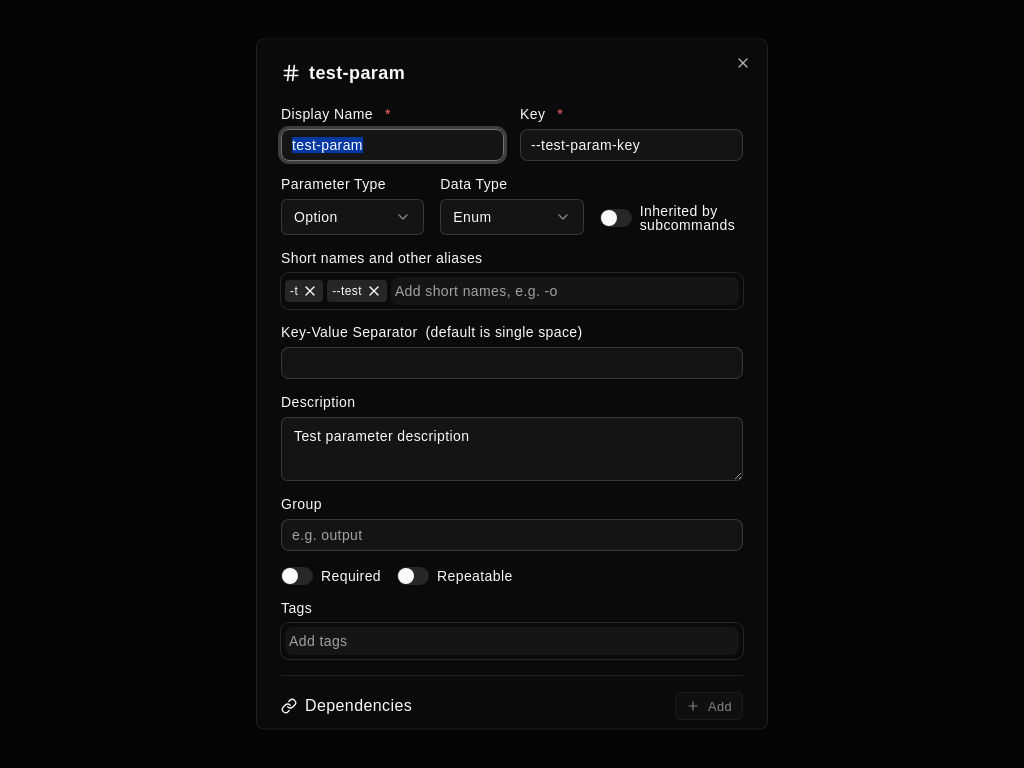
Test case: ParameterDetailsDialog - Enum Section › blocks save when any enum value has an empty value string
Replace the text in the text box showing "Test parameter description" with "Updated" at (512, 449), box [281,417,743,481]
(page scrolled)
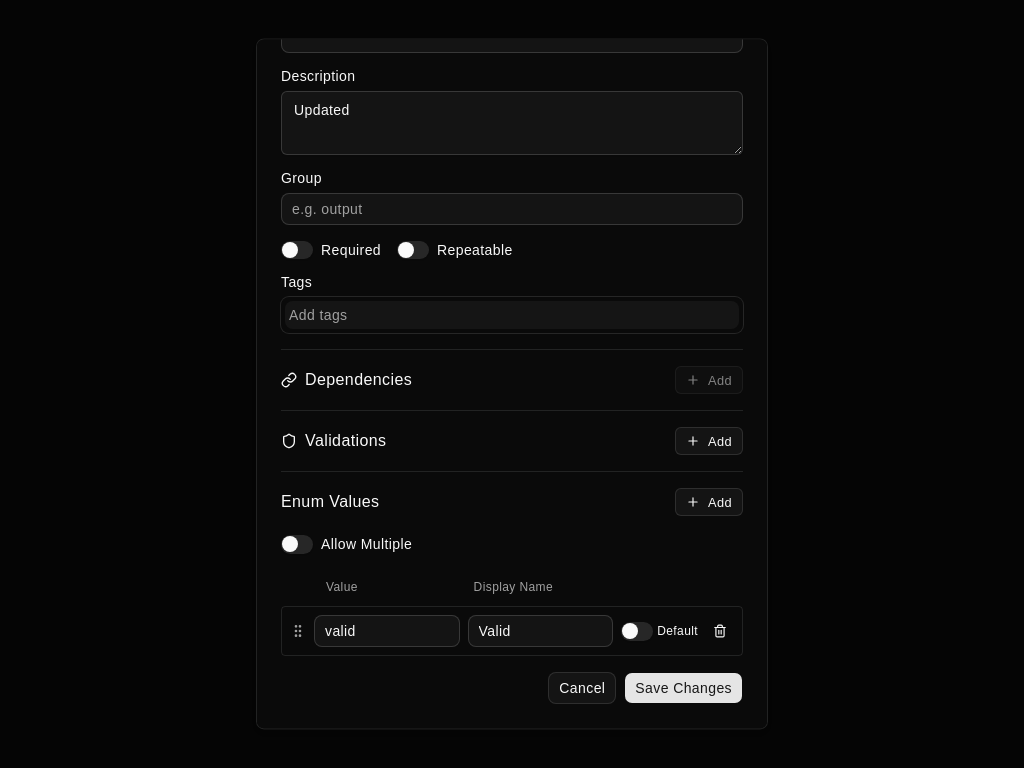
Expected: the button "Save Changes" is enabled, [624,673,743,705]
Clear the 1st field showing "valid" at (387, 632), box [314,616,460,648]
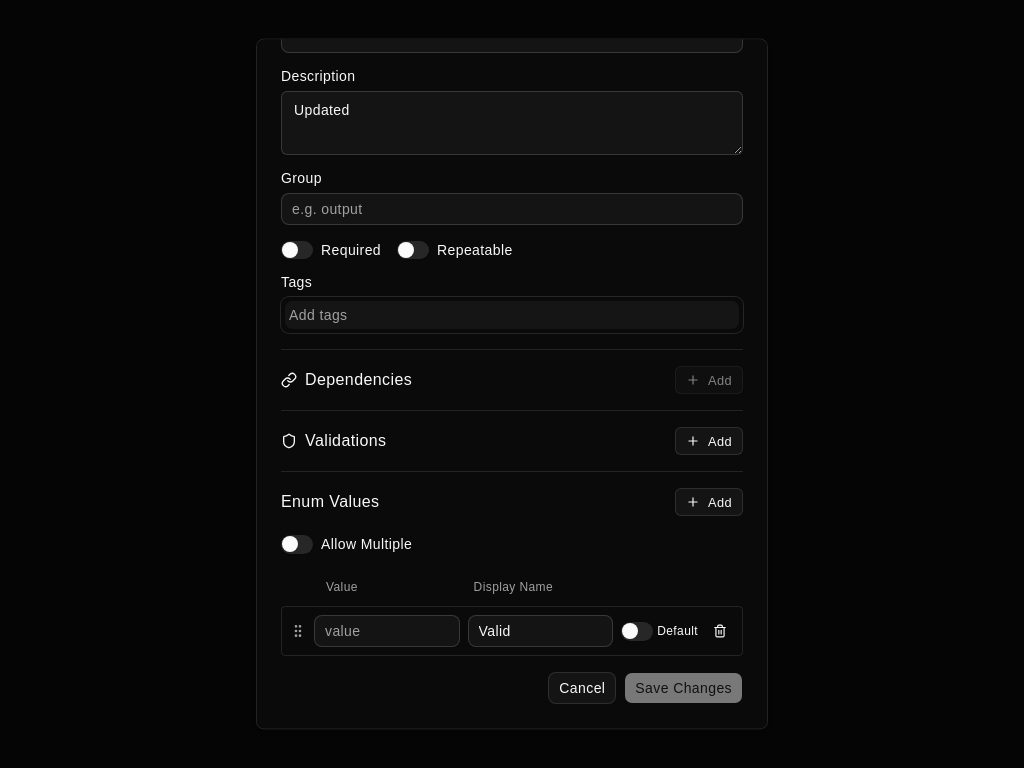
Expected: the button "Save Changes" is disabled, [624,673,743,705]
